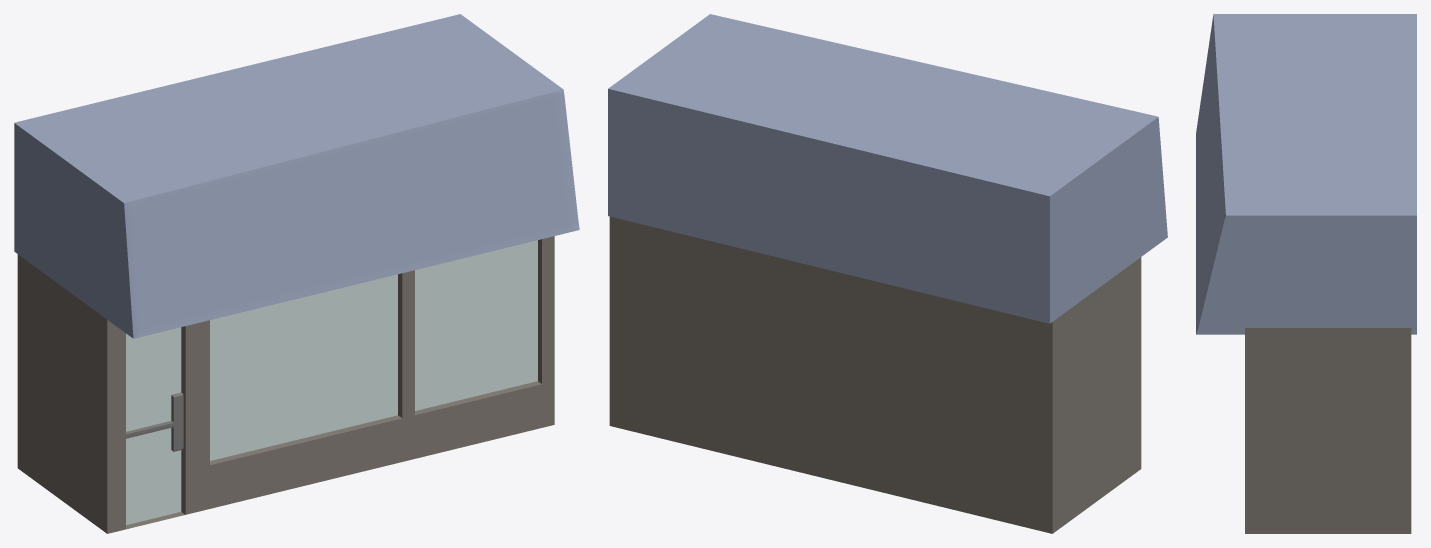
The model's file is Shop.fbx.
3 views of the same model, side by side, from view 1: azimuth 30°, elevation 25°; view 2: azimuth 150°, elevation 25°; view 3: azimuth 270°, elevation 25° (orthographic). The views are drawn at different scales.
Parts seen in each view (by area): view 1: polySurface432; view 2: polySurface432; view 3: polySurface432.
Part boxes in pixels (left/top/right/bottom): polySurface432: left=14, top=14, right=579, bottom=533; polySurface432: left=608, top=14, right=1167, bottom=533; polySurface432: left=1196, top=14, right=1416, bottom=533.
Bounding box in the file's own units: 2.88 × 2.11 × 1.33.
